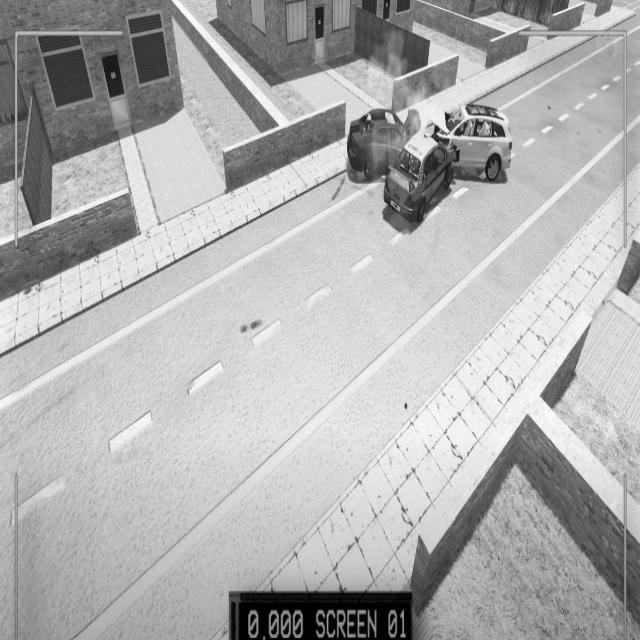accident: (345, 100, 514, 228)
